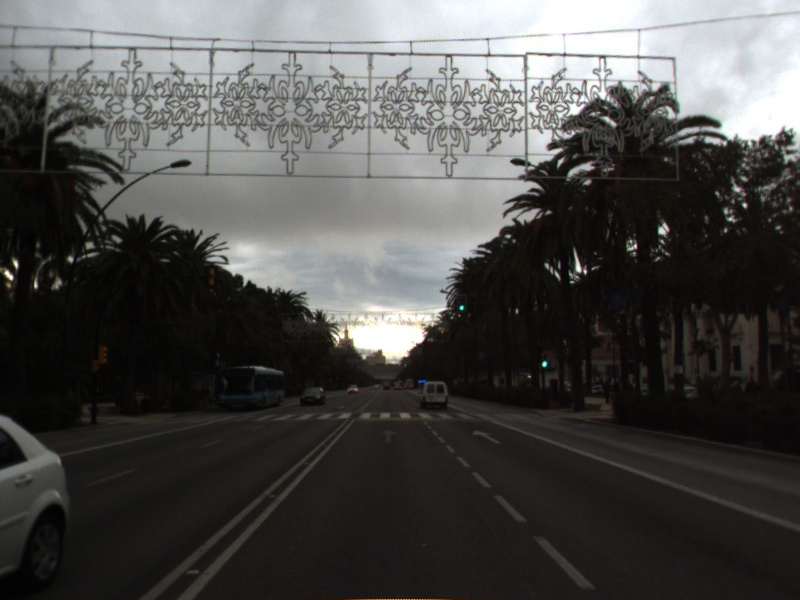STRAIGHT: (470, 428, 504, 446), (377, 427, 401, 447)
